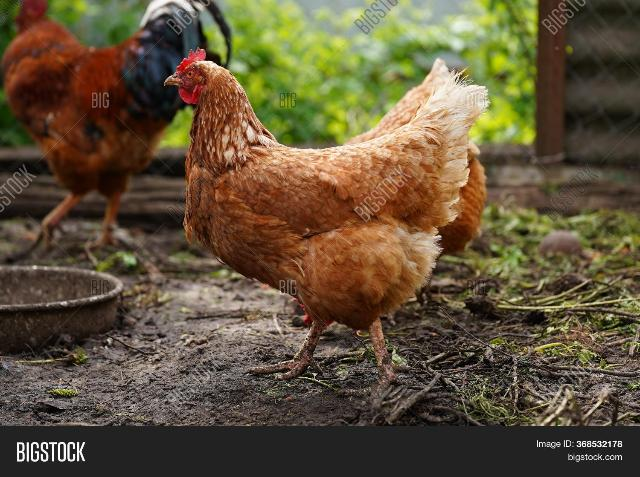Chicken: (165, 48, 490, 383)
